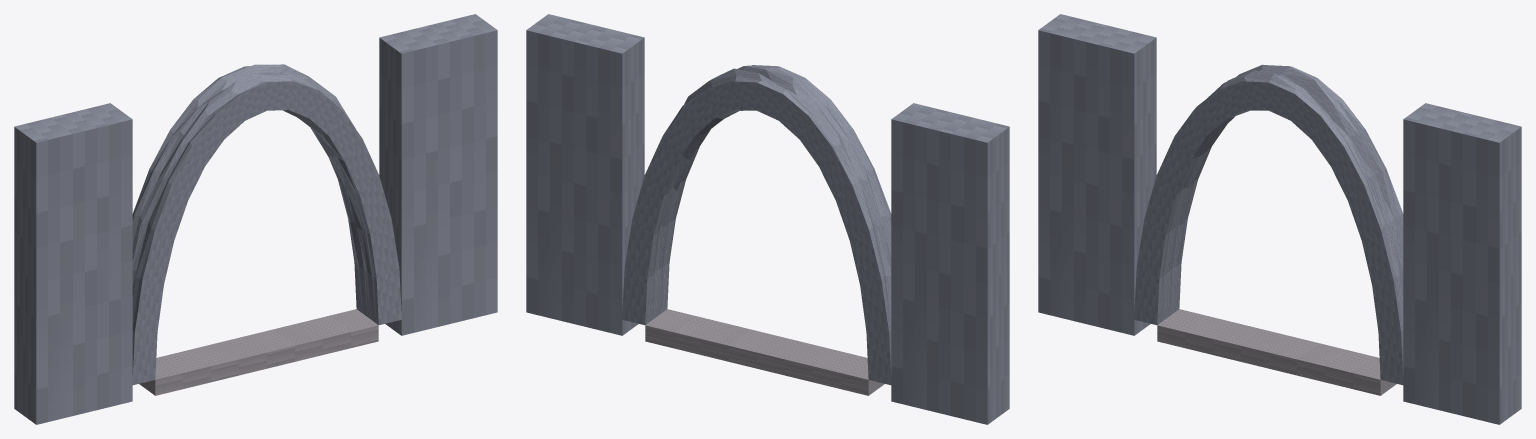
File: cave-and-crystal-networks-chamber-end-cap-34398af8.glb
3 views of the same model, side by side, from view 1: azimuth 30°, elevation 25°; view 2: azimuth 150°, elevation 25°; view 3: azimuth 330°, elevation 25° (orthographic).
Parts seen in each view (by area): view 1: chamber-end-cap; view 2: chamber-end-cap; view 3: chamber-end-cap.
Part boxes in pixels (box(x1,y1,x2,y2)): chamber-end-cap: box(14, 14, 497, 424); chamber-end-cap: box(526, 14, 1009, 424); chamber-end-cap: box(1038, 14, 1521, 424).
Bounding box in the file's own units: 5.99 × 3.61 × 0.4999.
2 materials, 2 textured.
